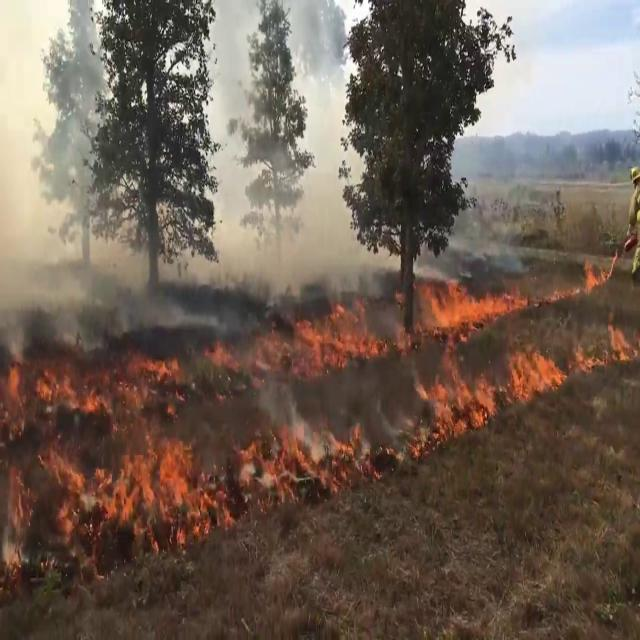Fire: (1, 320, 214, 545), (240, 382, 376, 499), (225, 294, 391, 378), (402, 360, 501, 448), (412, 274, 518, 336), (504, 339, 566, 403), (576, 246, 613, 296)
Smoke: (0, 0, 159, 335), (188, 94, 398, 288)
